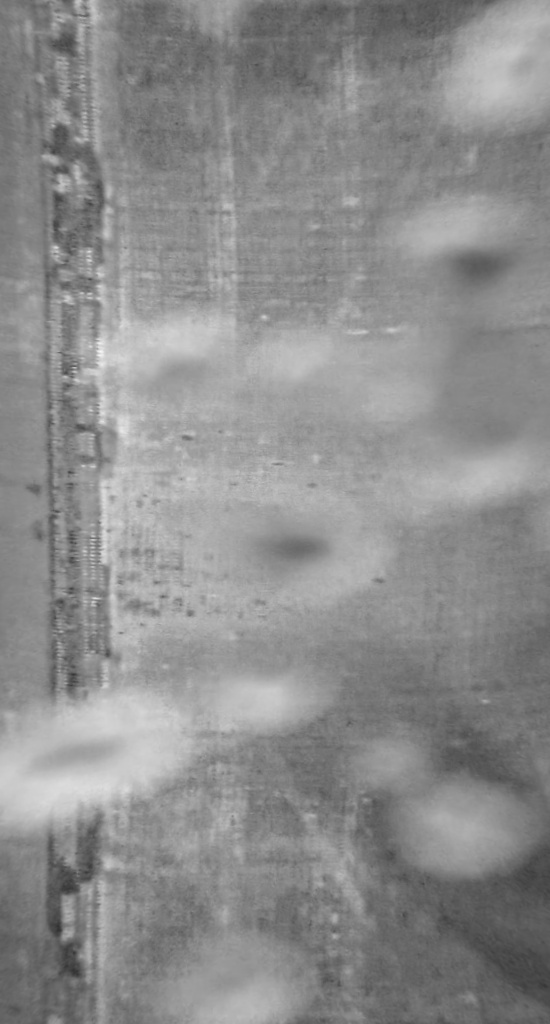splice: (28, 1, 125, 1022)
